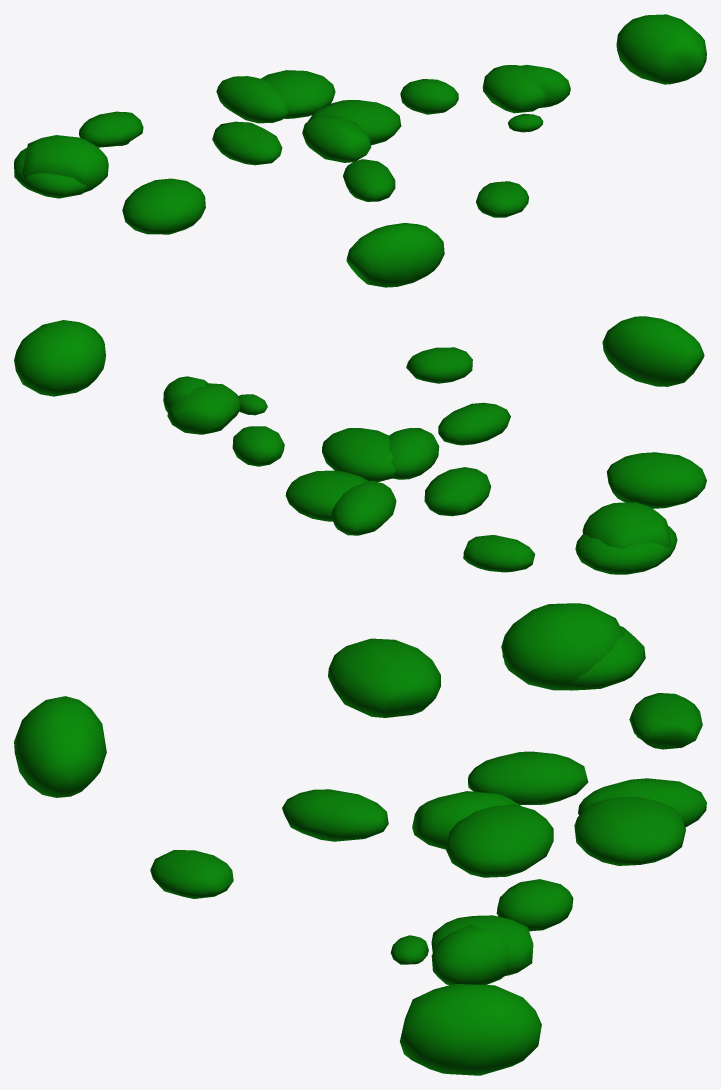
Rendered from talus_patch.glb.
3 views of the same model, one above another, from view 1: azimuth 30°, elevation 25°; view 2: azimuth 150°, elevation 25°; view 3: azimuth 270°, elevation 25° (orthographic). The views are drawn at different scales.
Parts seen in each view (by area): view 1: LOD0; view 2: LOD0; view 3: LOD0.
Boxes of the visible parts, bbox=[...] form: LOD0: bbox=[14, 14, 706, 287]; LOD0: bbox=[14, 316, 706, 574]; LOD0: bbox=[14, 603, 706, 1075].
Size of what is drawn, in the model's own units: 3.72 by 0.3057 by 2.48.
